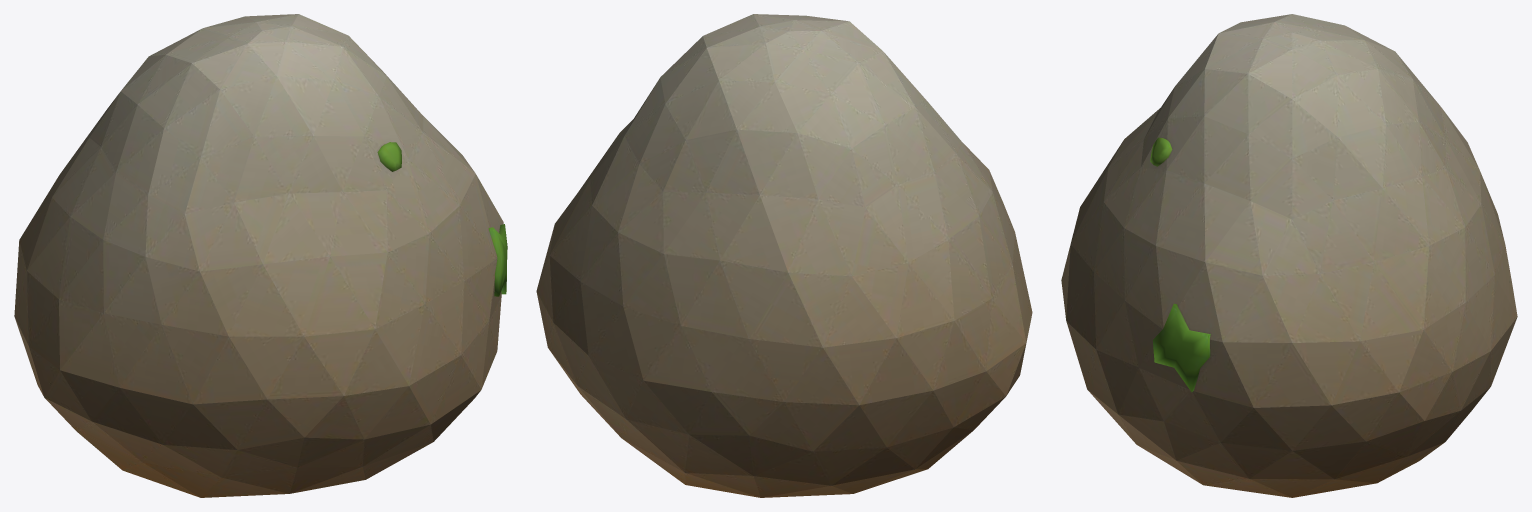
Rendered from rock_1_high.glb.
The picture shows the model from 3 angles, left to right: view 1: azimuth 30°, elevation 25°; view 2: azimuth 150°, elevation 25°; view 3: azimuth 270°, elevation 25°; orthographic projection.
Parts seen in each view (by area): view 1: rock_1; view 2: rock_1; view 3: rock_1.
Boxes of the visible parts, x1,y1,x2,y2 form: rock_1: [14, 14, 507, 497]; rock_1: [536, 14, 1032, 497]; rock_1: [1061, 14, 1517, 497].
Bounding box in the file's own units: 0.6229 × 0.5857 × 0.5721.
1 material, 1 textured.
